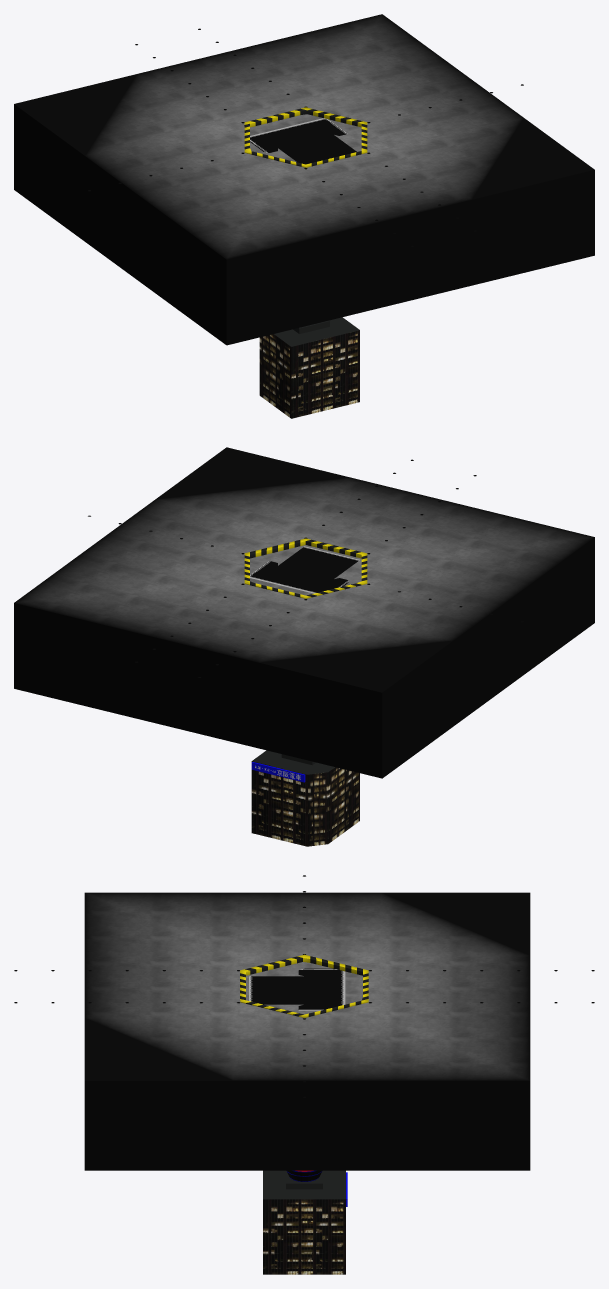
Rendered from KYOTO_TOWER.glb.
The picture shows the model from 3 angles, top to bottom: view 1: azimuth 30°, elevation 25°; view 2: azimuth 150°, elevation 25°; view 3: azimuth 270°, elevation 25°; orthographic projection. The views are drawn at different scales.
Parts seen in each view (by area): view 1: obj14, obj1, obj17, obj18; view 2: obj14, obj1, obj18, obj17; view 3: obj14, obj1, obj17, obj18.
Boxes of the visible parts, <box> form: obj14: <box>14,14,594,345</box>; obj1: <box>259,317,359,418</box>; obj17: <box>250,114,361,153</box>; obj18: <box>259,129,361,164</box>; obj14: <box>14,447,594,778</box>; obj1: <box>251,750,359,846</box>; obj18: <box>254,545,361,584</box>; obj17: <box>250,557,351,595</box>; obj14: <box>14,875,594,1170</box>; obj1: <box>263,1170,347,1274</box>; obj17: <box>298,962,362,1014</box>; obj18: <box>246,963,304,1014</box>.
Size of the model in its own units: 709 by 403 by 782.
24 materials, 23 textured.
